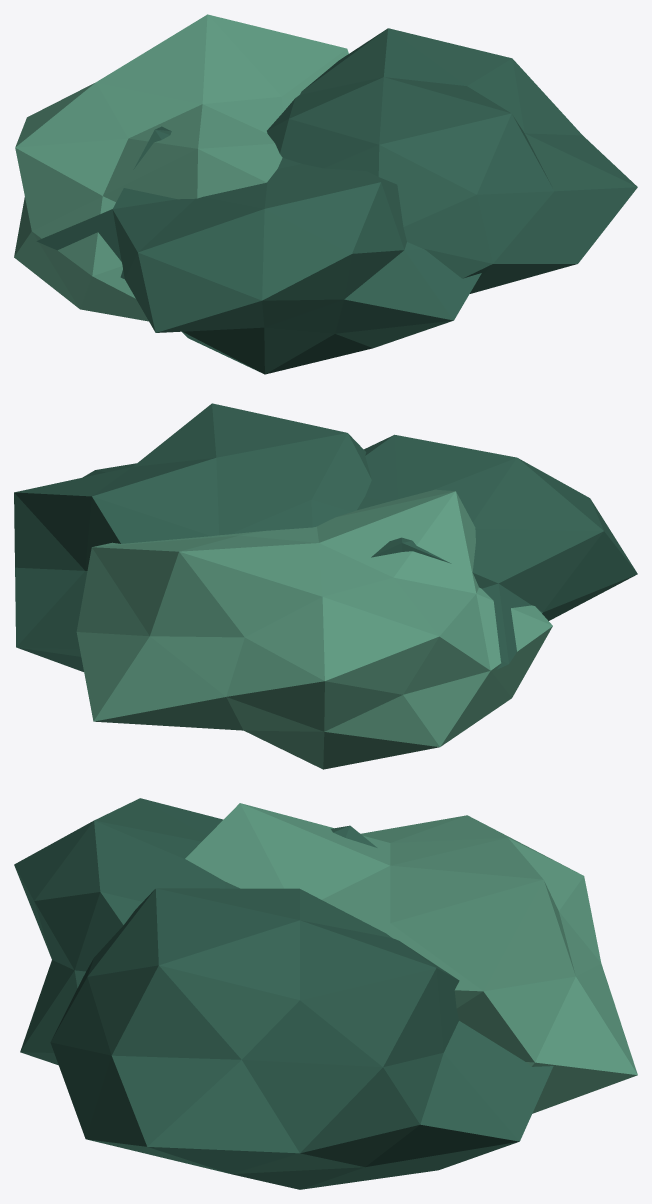
Rendered from vge_item_oxyalgae_a.obj.
3 views of the same model, one above another, from view 1: azimuth 30°, elevation 25°; view 2: azimuth 150°, elevation 25°; view 3: azimuth 270°, elevation 25° (orthographic). The views are drawn at different scales.
Parts seen in each view (by area): view 1: vge_item_oxyalgae_a_0, vge_item_oxyalgae_a_2, vge_item_oxyalgae_a_1; view 2: vge_item_oxyalgae_a_1, vge_item_oxyalgae_a_0, vge_item_oxyalgae_a_2; view 3: vge_item_oxyalgae_a_0, vge_item_oxyalgae_a_1, vge_item_oxyalgae_a_2.
Part boxes in pixels (x1,y1,x2,y2): vge_item_oxyalgae_a_0: [267, 28, 637, 293]; vge_item_oxyalgae_a_2: [36, 126, 481, 374]; vge_item_oxyalgae_a_1: [14, 14, 348, 321]; vge_item_oxyalgae_a_1: [76, 489, 552, 769]; vge_item_oxyalgae_a_0: [14, 403, 371, 671]; vge_item_oxyalgae_a_2: [357, 434, 637, 669]; vge_item_oxyalgae_a_0: [50, 888, 553, 1189]; vge_item_oxyalgae_a_1: [185, 803, 637, 1113]; vge_item_oxyalgae_a_2: [14, 798, 377, 1065].
Bounding box in the file's own units: 0.341 × 0.1176 × 0.3085.
